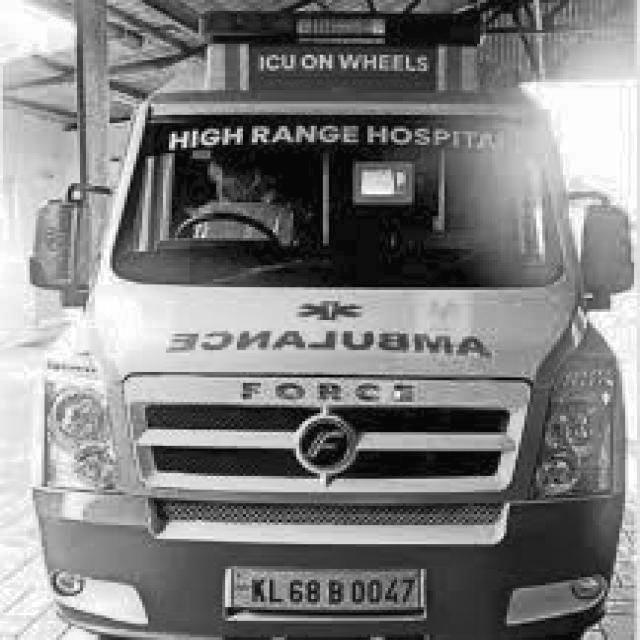LCV: (24, 8, 620, 640)
